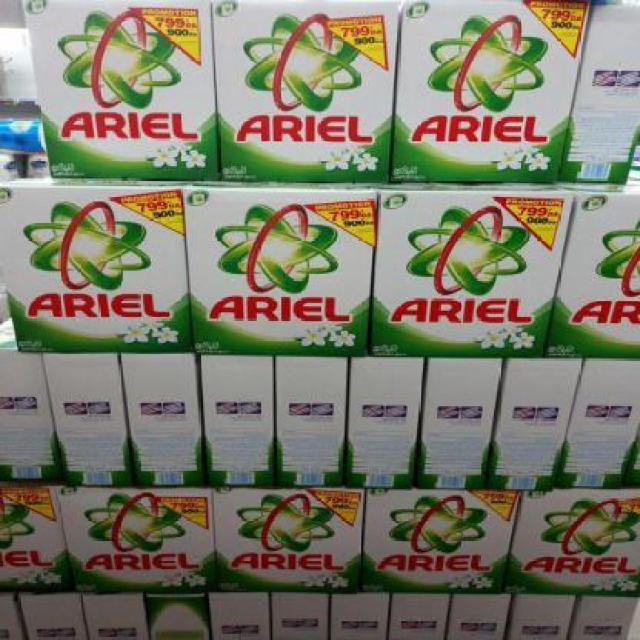Detergent: (26, 0, 219, 186), (391, 0, 591, 178), (211, 0, 391, 186), (371, 183, 552, 360), (188, 192, 377, 354), (6, 186, 188, 352), (206, 478, 365, 594), (70, 486, 216, 600), (362, 488, 512, 594), (510, 484, 639, 596), (556, 189, 639, 354), (0, 486, 66, 594)
